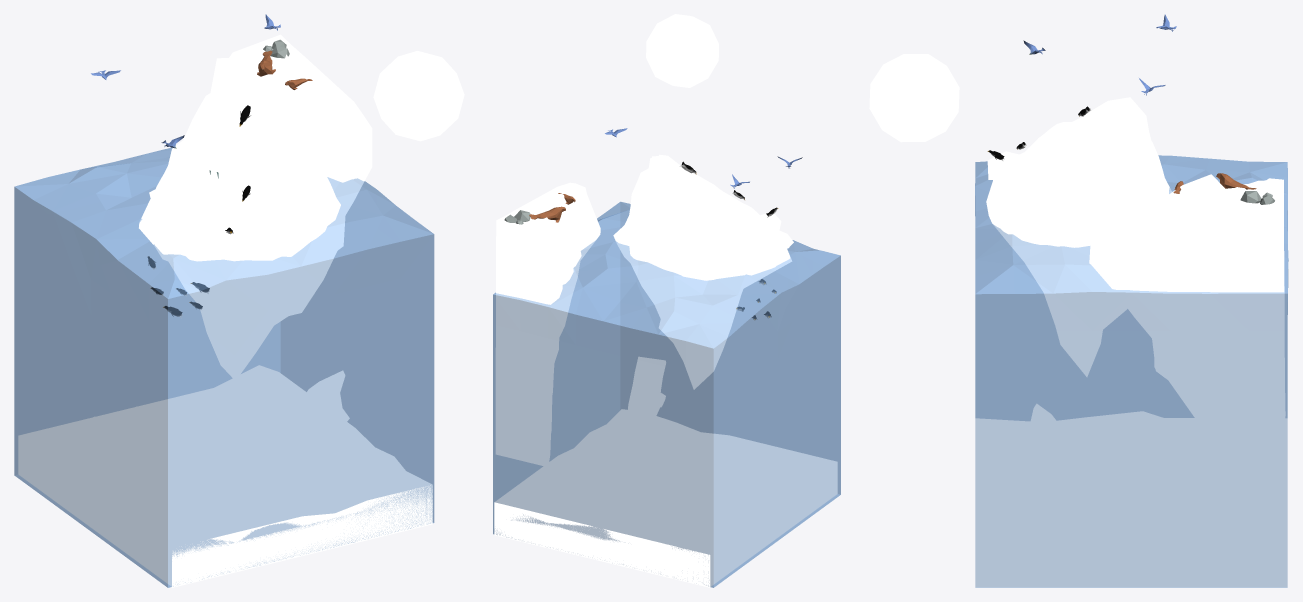
Rendered from ice.gltf.
The picture shows the model from 3 angles, left to right: view 1: azimuth 30°, elevation 25°; view 2: azimuth 150°, elevation 25°; view 3: azimuth 270°, elevation 25°; orthographic projection. The views are drawn at different scales.
Visible parts, largest first — view 1: Water_0, IceFloor_3, Iceberg_4, Cube.001_6, Moon_5, Cube_16, Icosphere.005_11; view 2: Water_0, IceFloor_3, Iceberg_4, Cube.001_6, Moon_5, Cube_16; view 3: Water_0, IceFloor_3, Cube.001_6, Iceberg_4, Moon_5, Cube_16.
Part boxes in pixels (box(x1,y1,x2,y2)): Water_0: box(14, 147, 434, 587); IceFloor_3: box(18, 365, 432, 587); Iceberg_4: box(139, 83, 340, 380); Cube.001_6: box(210, 34, 372, 324); Moon_5: box(373, 51, 464, 141); Cube_16: box(288, 370, 349, 431); Icosphere.005_11: box(202, 232, 247, 250); Water_0: box(493, 201, 840, 587); IceFloor_3: box(494, 409, 837, 587); Iceberg_4: box(613, 154, 793, 389); Cube.001_6: box(495, 182, 600, 466); Moon_5: box(646, 14, 718, 87); Cube_16: box(628, 356, 665, 417); Water_0: box(975, 155, 1288, 587); IceFloor_3: box(975, 411, 1287, 587); Cube.001_6: box(1089, 174, 1285, 488); Iceberg_4: box(986, 97, 1171, 376); Moon_5: box(869, 54, 959, 142); Cube_16: box(1017, 404, 1089, 468).
Size of the model in its own units: 18.05 by 32.33 by 24.14.
